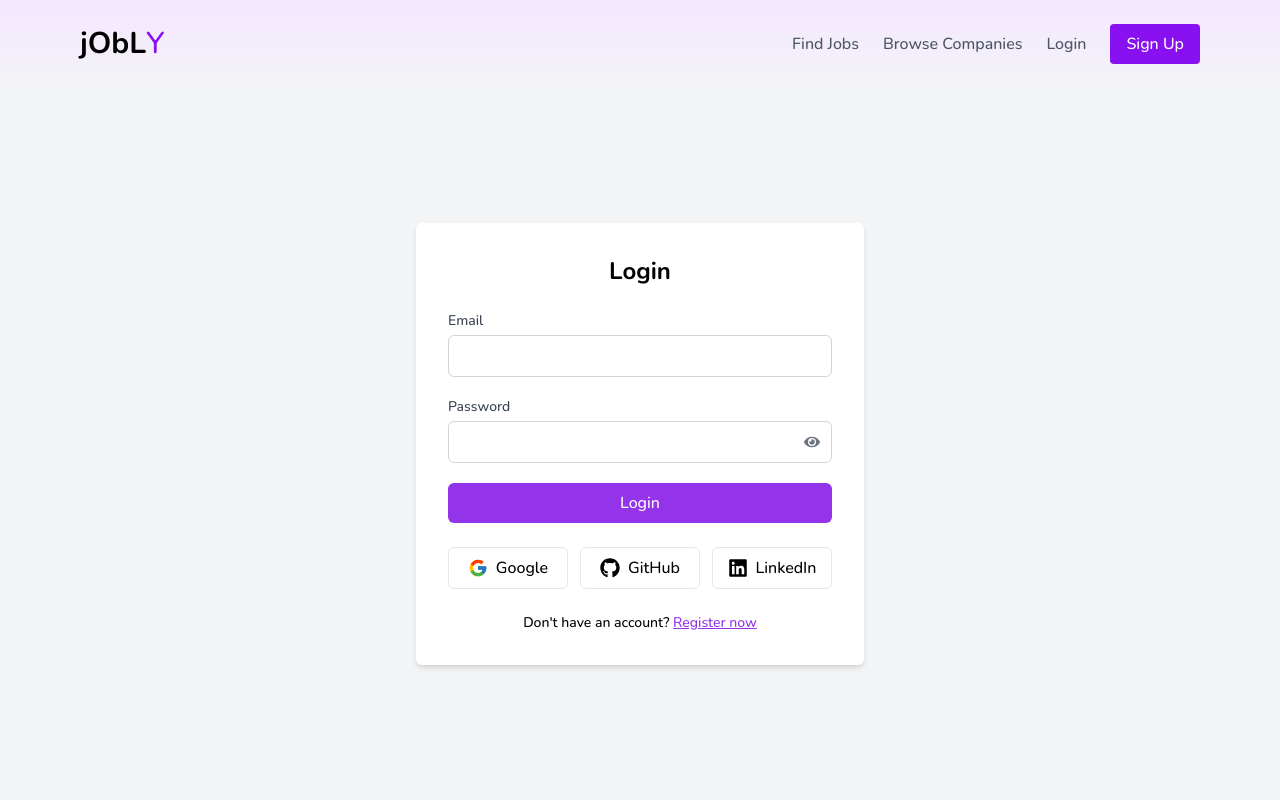
Test case: Login › shows the server error and re-enables the button
The image size is (1280, 800).
Type "a@b.co" into the field labelled "Email" at (640, 356), box [448, 335, 832, 377]
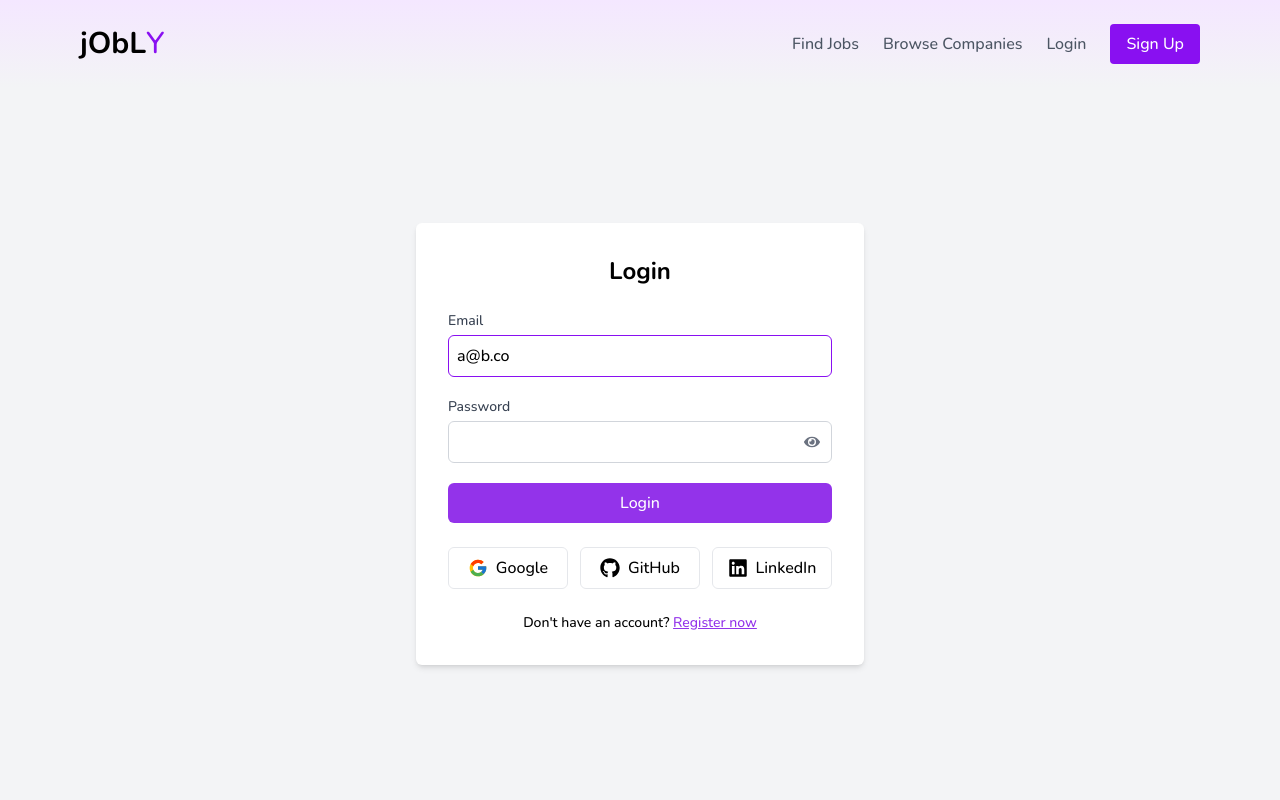
Type "wrongpw" into the password field labelled "Password" at (640, 442), box [448, 421, 832, 463]
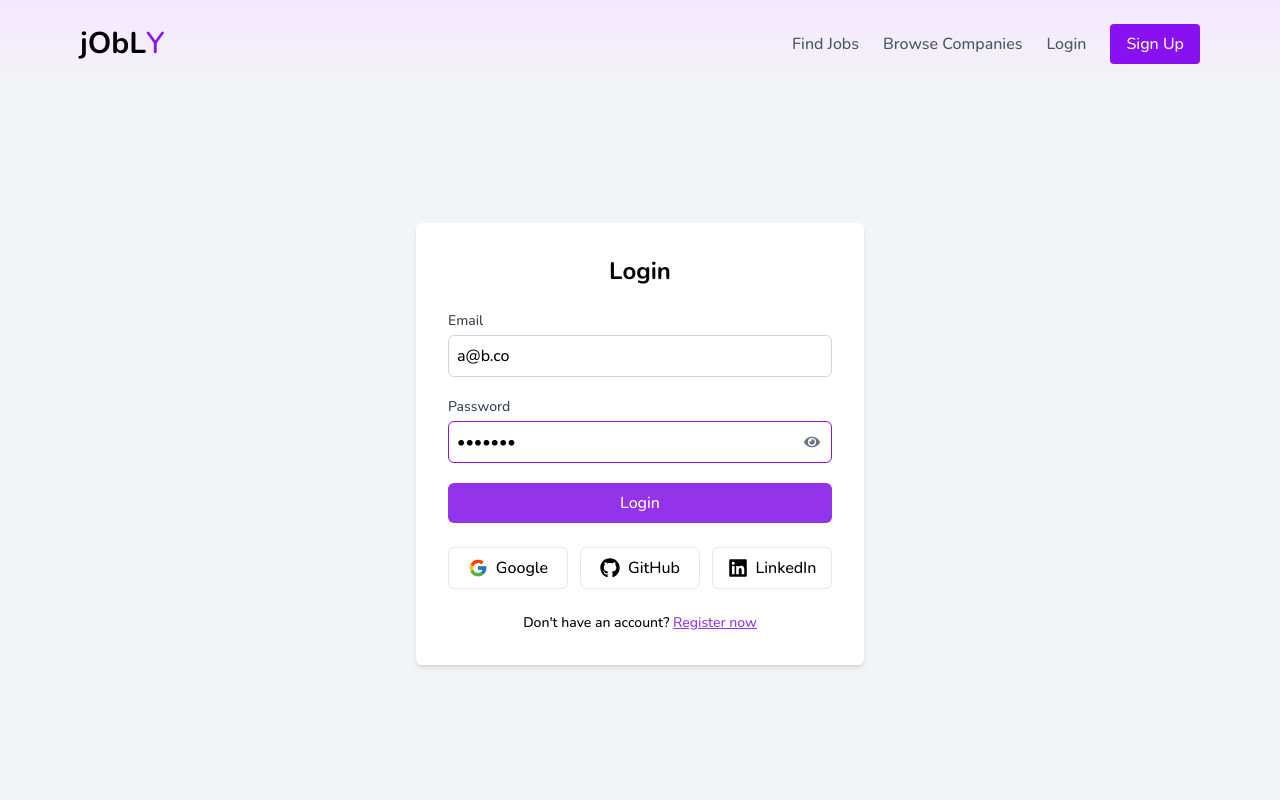
Click the button "Login" at (640, 503), box [448, 483, 832, 523]
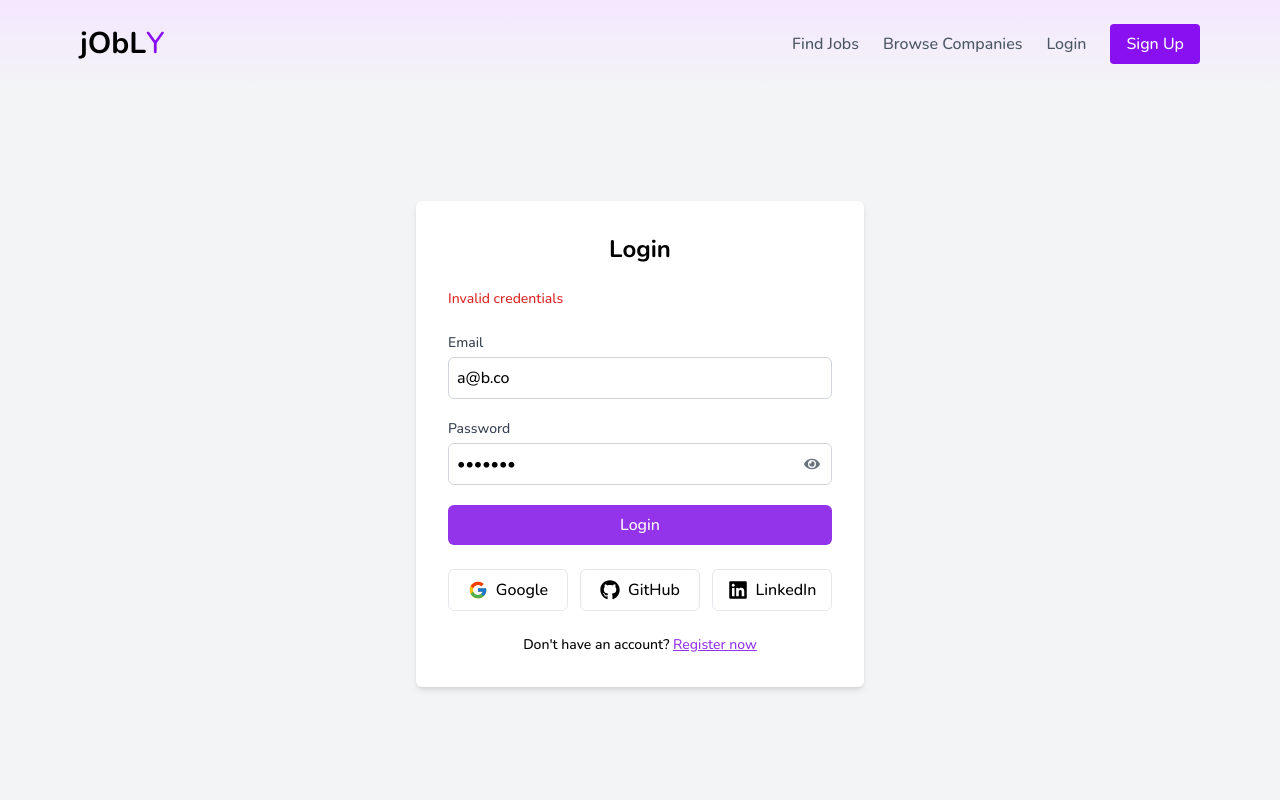
Expected: the button "Login" is enabled, [448, 505, 832, 545]
Expected: the message reads "Invalid credentials", [448, 289, 563, 308]
